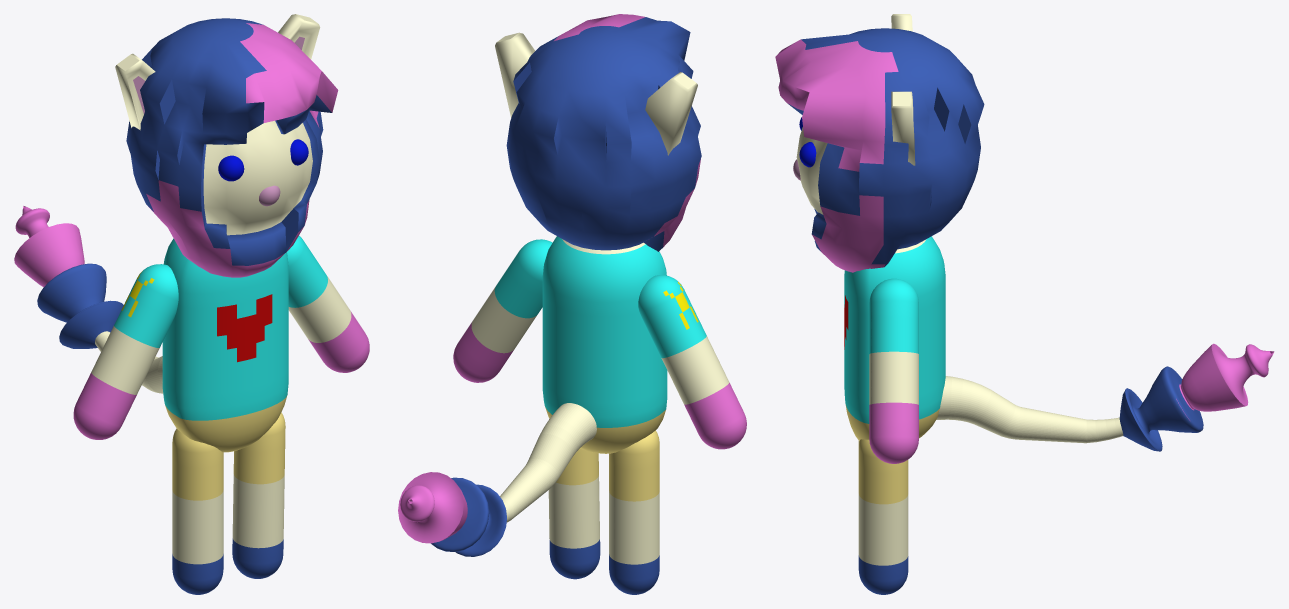
The model's file is matty.fbx.
3 views of the same model, side by side, from view 1: azimuth 30°, elevation 25°; view 2: azimuth 150°, elevation 25°; view 3: azimuth 270°, elevation 25° (orthographic). The views are drawn at different scales.
Parts seen in each view (by area): view 1: head, body, larm, Lathe, lleg, rleg, rarm, Cube, eyes, tail; view 2: head, body, larm, lleg, Lathe, rarm, rleg, tail, Cube; view 3: head, body, rarm, Lathe, rleg, tail, Cube.
Boxes of the visible parts, bbox=[...] form: head: bbox=[126, 18, 338, 277]; body: bbox=[162, 238, 288, 452]; larm: bbox=[73, 264, 178, 439]; Lathe: bbox=[14, 206, 123, 348]; lleg: bbox=[172, 428, 223, 594]; rleg: bbox=[232, 412, 285, 578]; rarm: bbox=[287, 235, 369, 372]; Cube: bbox=[115, 14, 320, 130]; eyes: bbox=[218, 139, 308, 181]; tail: bbox=[95, 331, 163, 393]; head: bbox=[506, 14, 701, 251]; body: bbox=[542, 236, 667, 453]; larm: bbox=[638, 275, 746, 449]; lleg: bbox=[609, 430, 659, 594]; Lathe: bbox=[398, 472, 506, 556]; rarm: bbox=[453, 239, 552, 382]; rleg: bbox=[548, 419, 600, 579]; tail: bbox=[500, 403, 596, 522]; Cube: bbox=[495, 32, 697, 155]; head: bbox=[775, 28, 984, 272]; body: bbox=[844, 236, 945, 440]; rarm: bbox=[869, 278, 918, 463]; Lathe: bbox=[1119, 343, 1274, 451]; rleg: bbox=[858, 439, 908, 594]; tail: bbox=[936, 376, 1123, 443]; Cube: bbox=[891, 14, 915, 165].
Size of the model in its own units: 262 by 481 by 402.
